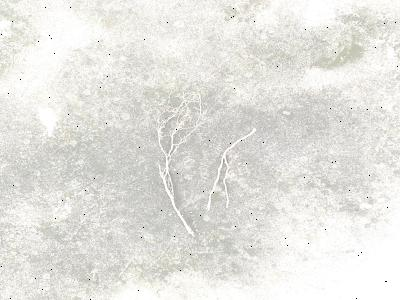Root: (206, 128, 256, 211), (158, 156, 193, 235)
